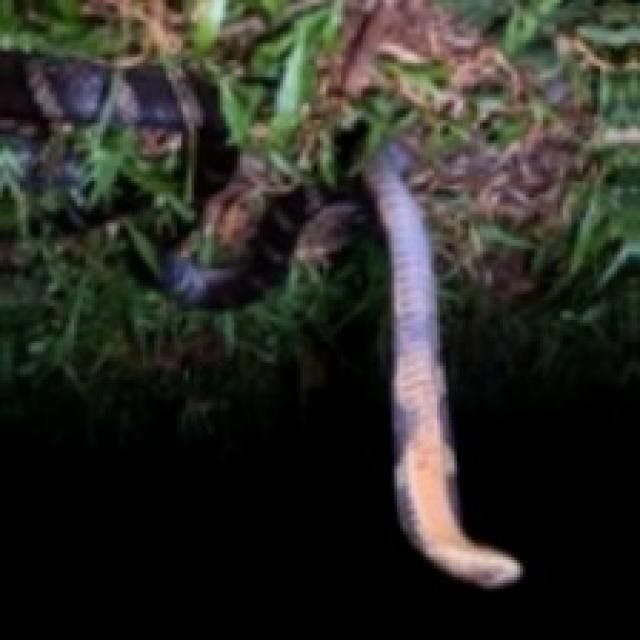king cobra: (0, 54, 520, 586), (369, 140, 520, 586), (71, 134, 194, 234)
